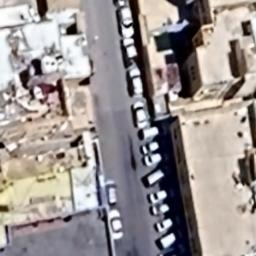SUV: (115, 8, 137, 38), (120, 41, 143, 64)
sedan: (99, 178, 122, 207), (130, 100, 151, 130), (106, 210, 126, 239), (157, 216, 177, 232), (148, 190, 169, 205), (140, 141, 164, 154), (144, 155, 168, 168)
van: (125, 68, 148, 100), (153, 229, 184, 250)
